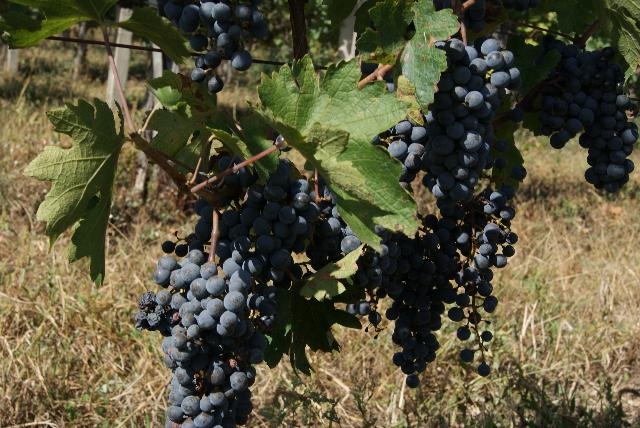grapes: (135, 249, 276, 428), (240, 180, 365, 374), (424, 38, 519, 208), (538, 35, 639, 192), (430, 185, 518, 362), (358, 231, 456, 388), (308, 220, 342, 280)
